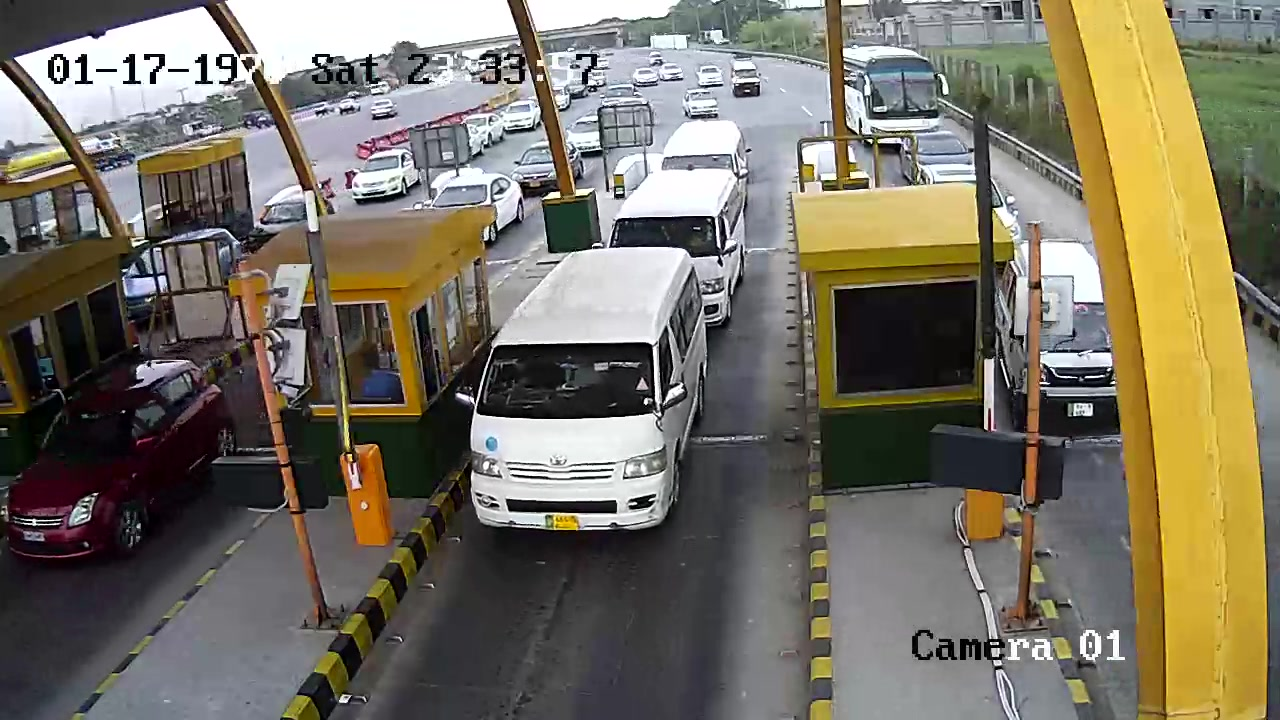F3: (455, 240, 708, 547)
